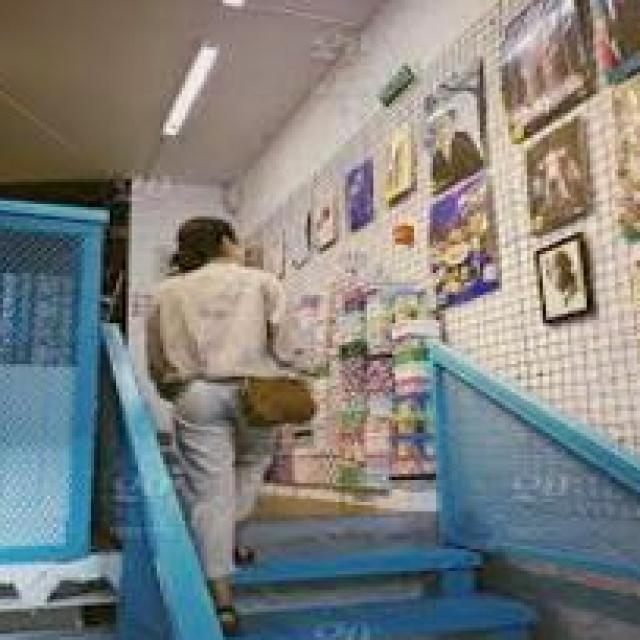upstair: (189, 540, 584, 640)
